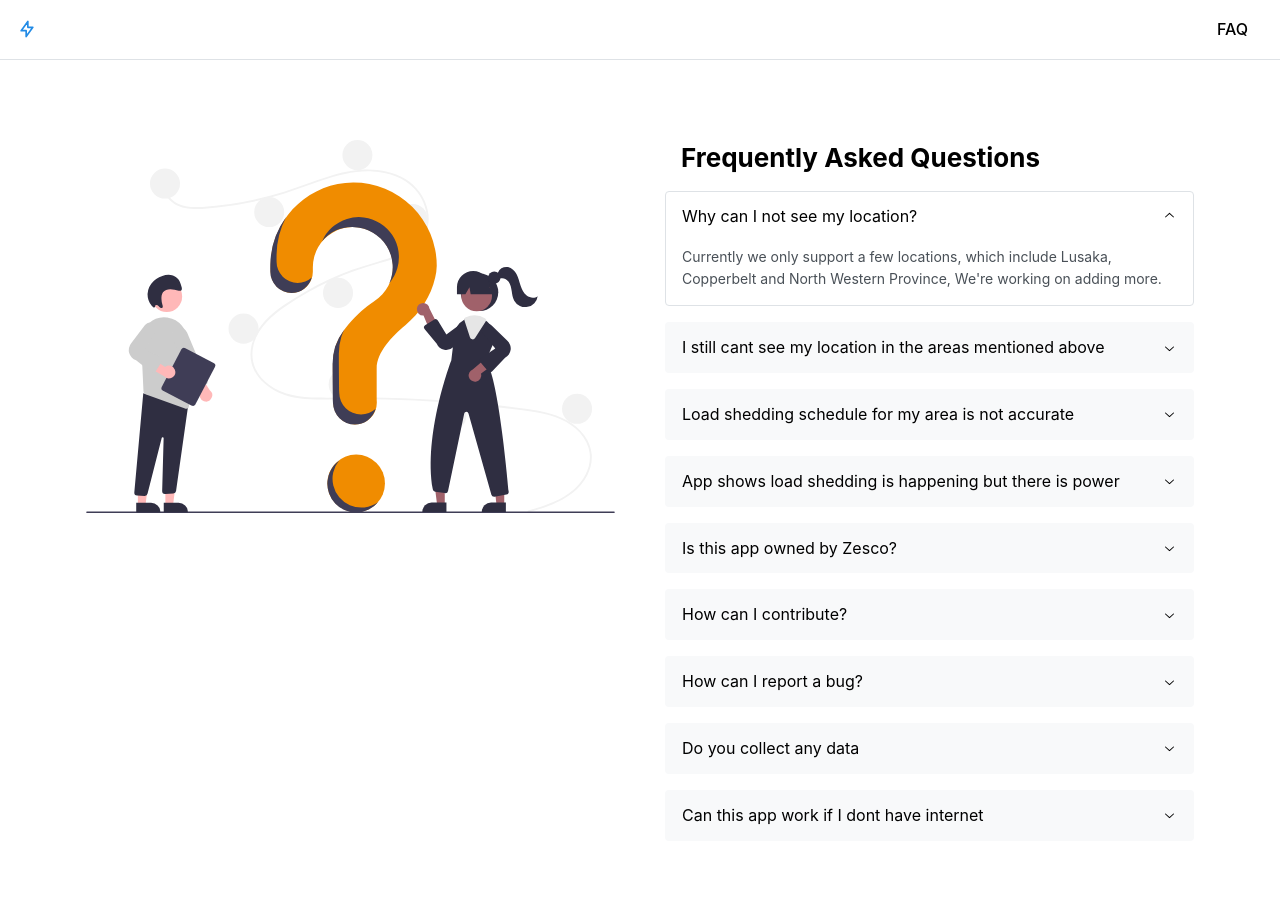
Test: FAQ Component › only one accordion item is open at a time
Expected: the text "Currently we only support a few locations, which include Lusaka, Copperbelt and North Western Province, We're working on" is shown, left=682, top=248, right=1162, bottom=287
Click the second question to open it and the first one should now be closed
Step 1. Click the button "I still cant see my location in the areas mentioned above" → (930, 348), box left=666, top=323, right=1193, bottom=372
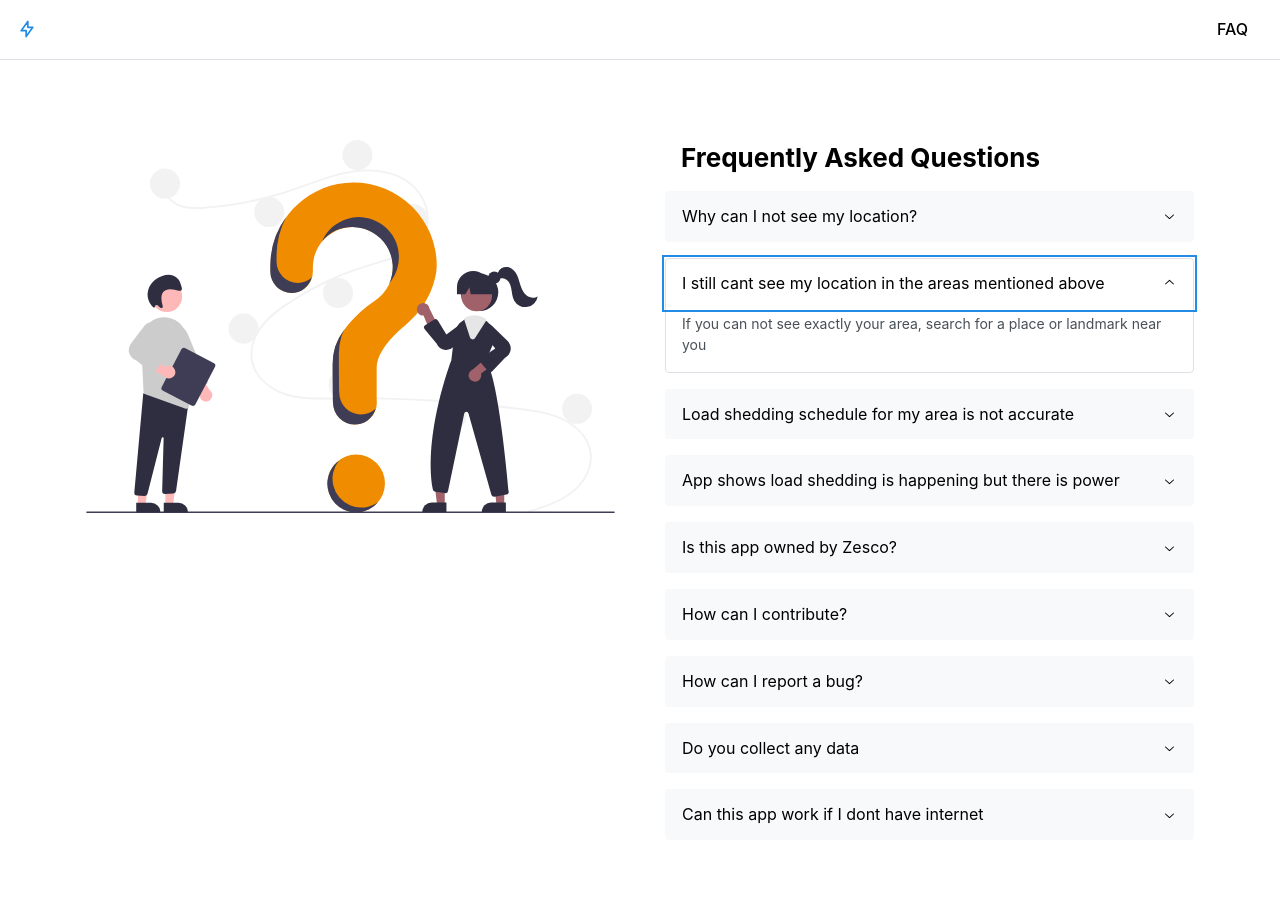
Expected: the text "Currently we only support a few locations, which include Lusaka, Copperbelt and North Western Province, We're working on" is gone
